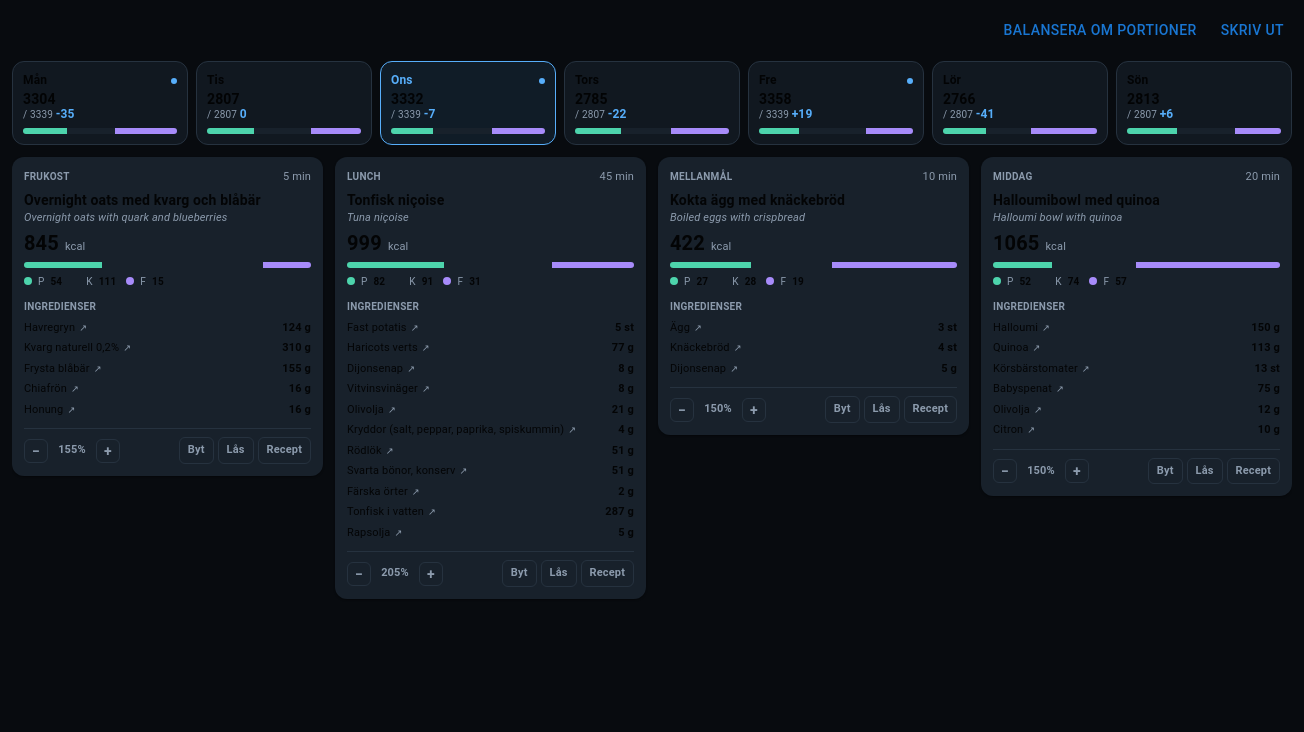
Test case: WeekView household switch › describes a truncated ingredient without renaming it
Hover over the link "Havregryn↗": (56, 328) [24,320,87,336]
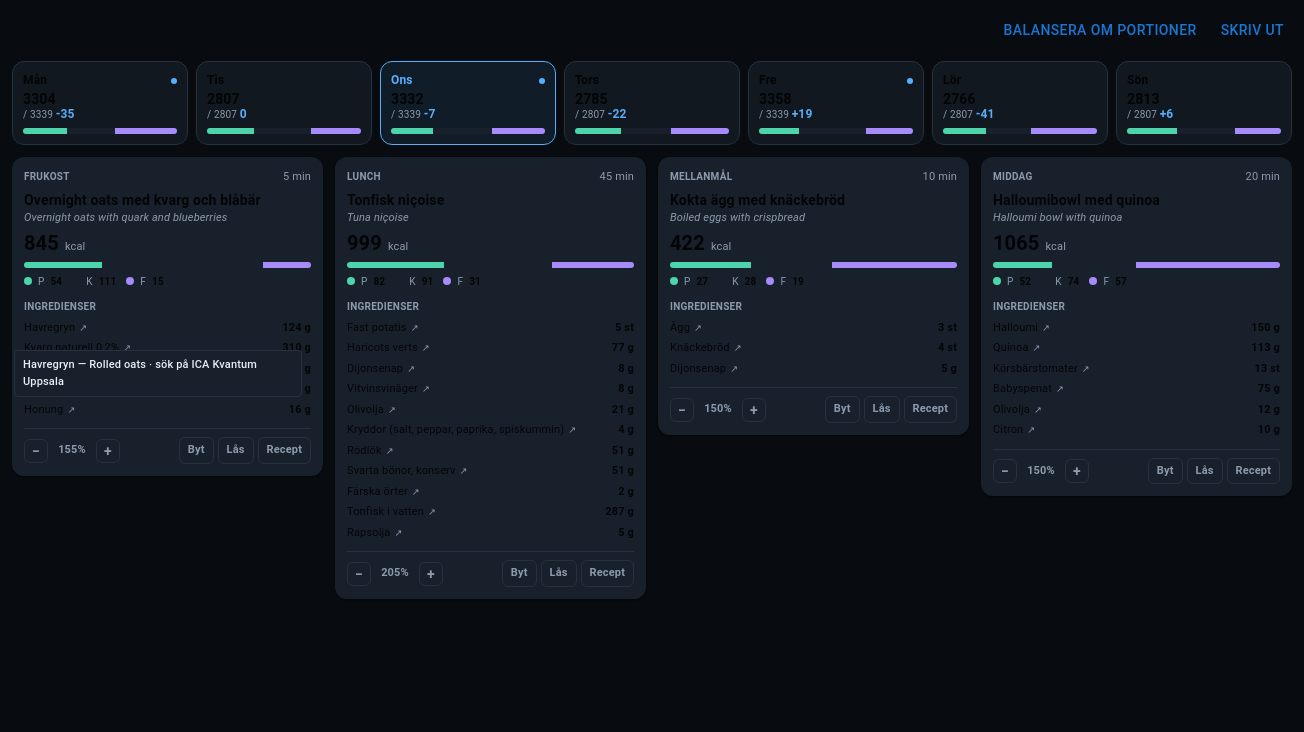
Expected: the tooltip shows "Havregryn", [23,358,257,388]
